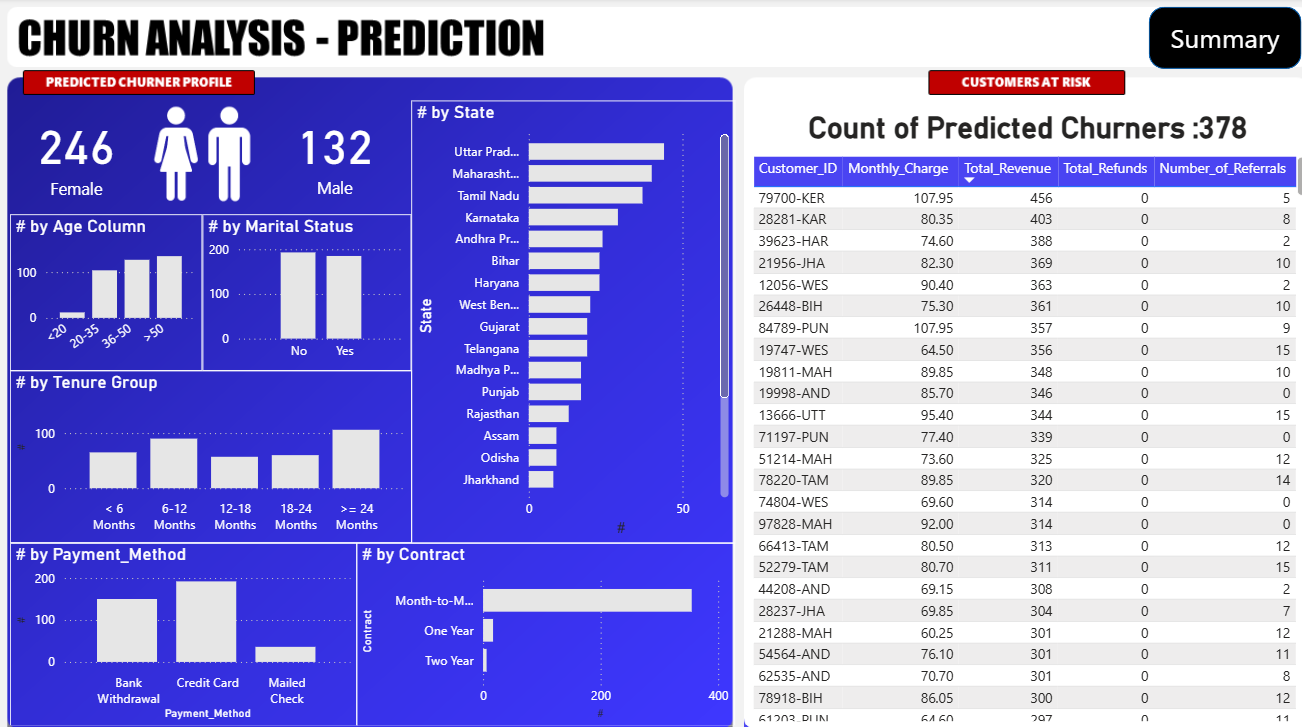

What the dashboard file says about the page in this screenshot:
{"tool":"powerbi","page":{"name":"Churn Prediction","canvas":[1280,720],"ordinal":2},"visuals":[{"type":"tableEx","fields":{"Values":["Predictions.Customer_ID","Predictions.Monthly_Charge","Predictions.Total_Revenue","Predictions.Total_Refunds","Predictions.Number_of_Referrals"]},"box":[725.7,148.6,544.3,554.3],"z":0},{"type":"card","fields":{"Values":["tbl_Measures.Title Predicted Churner"]},"box":[777.5,98.8,440,48.8],"z":1},{"type":"card","fields":{"Values":["tbl_Measures.Count Predicted Churners"]},"box":[14.3,91.4,128.6,117.1],"z":2},{"type":"card","fields":{"Values":["tbl_Measures.Count Predicted Churners"]},"box":[254.3,91.4,147.1,115.7],"z":3},{"type":"clusteredColumnChart","fields":{"Category":["Mapping_Age.Age Column"],"Y":["CountNonNull(Predictions.Customer_ID)"]},"box":[14.3,208.6,185.7,151.4],"z":4},{"type":"clusteredColumnChart","fields":{"Category":["Predictions.Married"],"Y":["CountNonNull(Predictions.Customer_ID)"]},"box":[200,208.6,201.4,151.4],"z":5},{"type":"clusteredColumnChart","fields":{"Y":["CountNonNull(Predictions.Customer_ID)"],"Category":["Mapping_Tenure.Tenure Group"]},"box":[14,360,388,166],"z":6},{"type":"clusteredColumnChart","fields":{"Y":["CountNonNull(Predictions.Customer_ID)"],"Category":["Predictions.Payment_Method"]},"box":[14,526,335,177],"z":7},{"type":"clusteredBarChart","fields":{"Category":["Predictions.Contract"],"Y":["CountNonNull(Predictions.Customer_ID)"]},"box":[348.6,525.7,365.7,177.1],"z":8},{"type":"clusteredBarChart","fields":{"Y":["CountNonNull(Predictions.Customer_ID)"],"Category":["Predictions.State"]},"box":[401.4,98.6,312.9,427.1],"z":9},{"type":"image","box":[128.6,91.4,141.4,115.7],"z":10},{"type":"shape","box":[1113.8,8.8,147.5,60],"z":11}]}

Visuals, with their boxes in screenshot pixels (x1, y1, x2, y2), scaled from the page's 1280x720 canvas onto the 1302x727 screenshot:
tableEx - Predictions.Customer_ID x Predictions.Monthly_Charge: bbox=[738, 150, 1292, 710]
card - tbl_Measures.Title Predicted Churner: bbox=[791, 100, 1238, 149]
card - tbl_Measures.Count Predicted Churners: bbox=[15, 92, 145, 211]
card - tbl_Measures.Count Predicted Churners: bbox=[259, 92, 408, 209]
clusteredColumnChart - Mapping_Age.Age Column x CountNonNull(Predictions.Customer_ID): bbox=[15, 211, 203, 364]
clusteredColumnChart - Predictions.Married x CountNonNull(Predictions.Customer_ID): bbox=[203, 211, 408, 364]
clusteredColumnChart - CountNonNull(Predictions.Customer_ID) x Mapping_Tenure.Tenure Group: bbox=[14, 364, 409, 531]
clusteredColumnChart - CountNonNull(Predictions.Customer_ID) x Predictions.Payment_Method: bbox=[14, 531, 355, 710]
clusteredBarChart - Predictions.Contract x CountNonNull(Predictions.Customer_ID): bbox=[355, 531, 727, 710]
clusteredBarChart - CountNonNull(Predictions.Customer_ID) x Predictions.State: bbox=[408, 100, 727, 531]
image: bbox=[131, 92, 275, 209]
shape: bbox=[1133, 9, 1283, 69]
